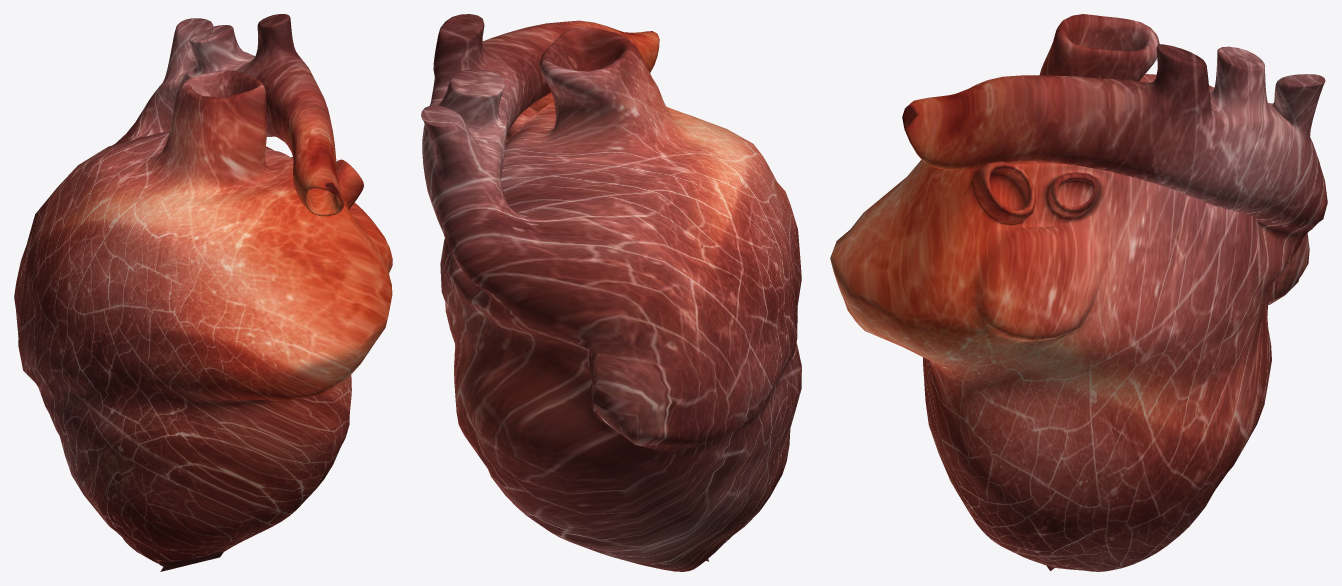
Rendered from heart.fbx.
3 views of the same model, side by side, from view 1: azimuth 30°, elevation 25°; view 2: azimuth 150°, elevation 25°; view 3: azimuth 270°, elevation 25° (orthographic). The views are drawn at different scales.
Visible parts, largest first — view 1: pCube1; view 2: pCube1; view 3: pCube1.
Boxes of the visible parts, x1,y1,x2,y2 form: pCube1: [14, 14, 392, 571]; pCube1: [421, 14, 801, 571]; pCube1: [830, 14, 1327, 571].
Size of the model in its own units: 6.17 by 9.22 by 7.07.
Materials: 1 (1 with a texture image).
